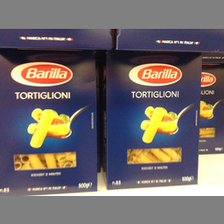pasta: (1, 50, 98, 195), (104, 50, 204, 190)
